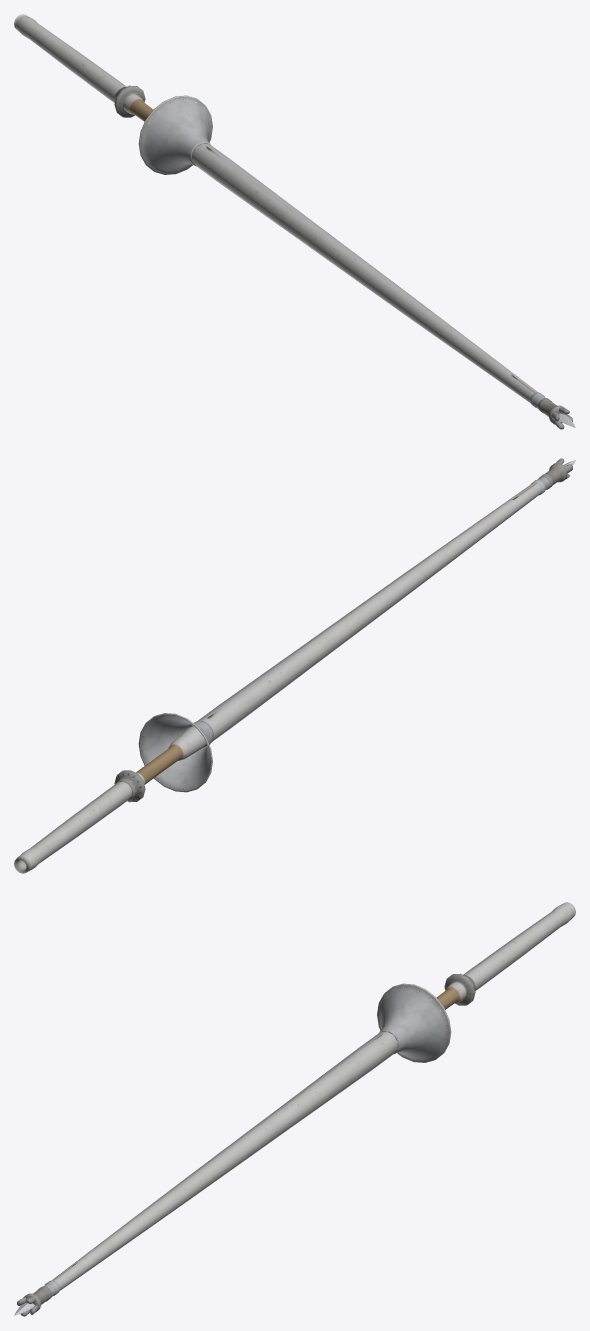
Rendered from lance_512.glb.
The picture shows the model from 3 angles, top to bottom: view 1: azimuth 30°, elevation 25°; view 2: azimuth 150°, elevation 25°; view 3: azimuth 330°, elevation 25°; orthographic projection.
Visible parts, largest first — view 1: lance_rear, lance_fore, lance_vamplate; view 2: lance_rear, lance_fore, lance_vamplate, lance_grapper; view 3: lance_rear, lance_fore, lance_vamplate.
Part boxes in pixels (x1,y1,x2,y2): lance_rear: [14, 14, 309, 238]; lance_fore: [294, 218, 537, 402]; lance_vamplate: [138, 95, 212, 174]; lance_rear: [14, 648, 313, 873]; lance_fore: [298, 482, 541, 667]; lance_vamplate: [138, 713, 213, 792]; lance_grapper: [114, 770, 145, 802]; lance_rear: [280, 902, 575, 1126]; lance_fore: [51, 1107, 295, 1290]; lance_vamplate: [377, 983, 451, 1062].
Size of the model in its own units: 0.2939 by 0.2939 by 3.83.
1 material, 1 textured.
